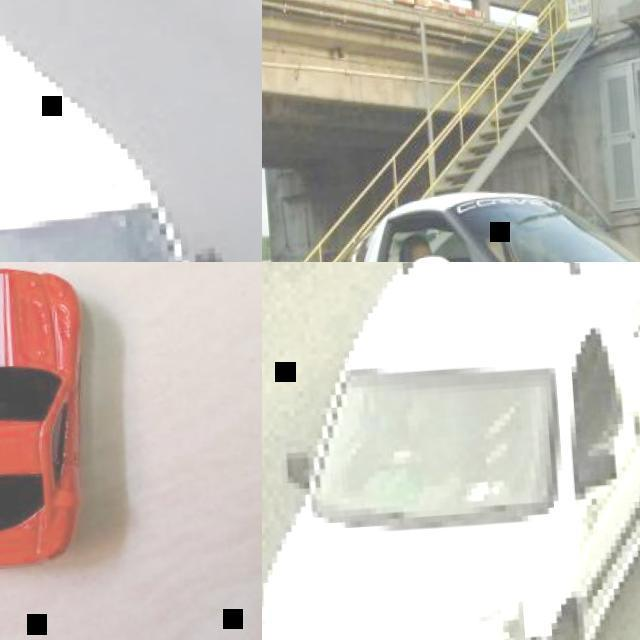car: (312, 153, 639, 639)
